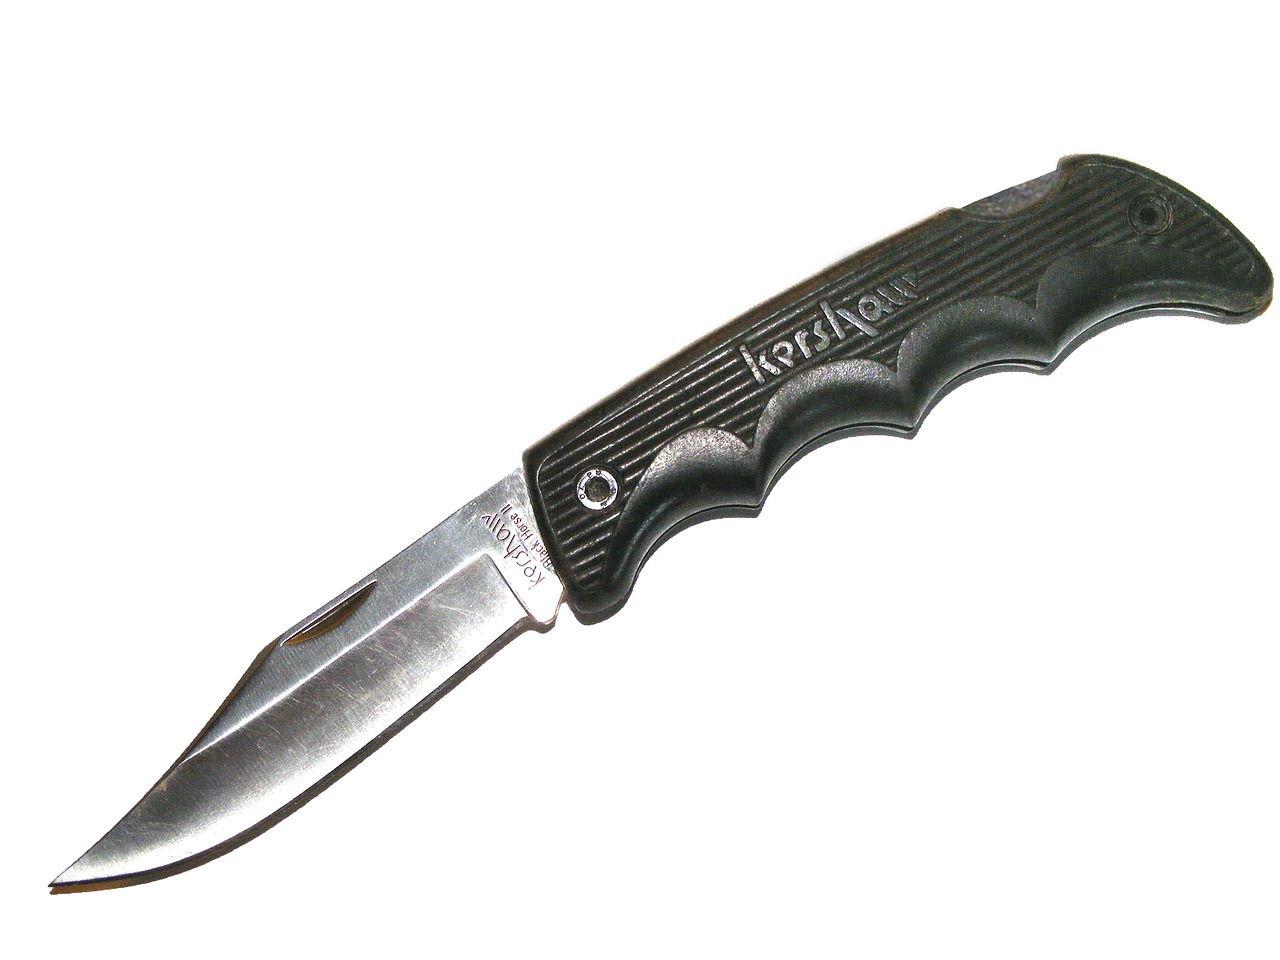knife: (39, 145, 1280, 899)
